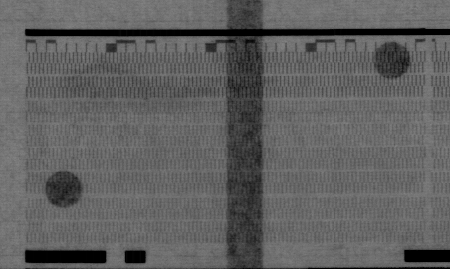Broken hole: (135, 124, 146, 136)
